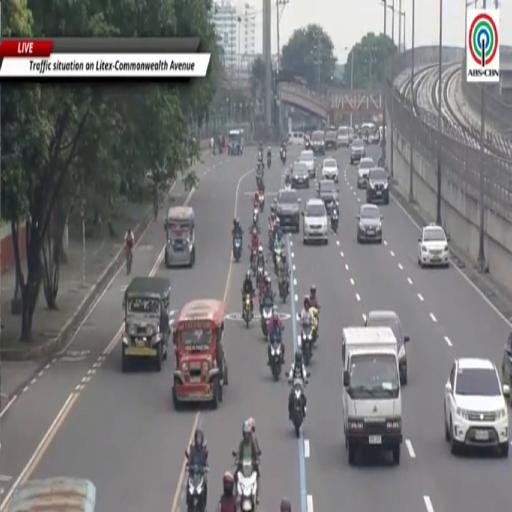car: (444, 358, 510, 457), (365, 311, 409, 385), (418, 223, 449, 267), (303, 199, 328, 245), (357, 204, 383, 243), (277, 189, 300, 232), (366, 168, 389, 204), (317, 180, 338, 214), (357, 157, 375, 188), (502, 332, 511, 386), (299, 150, 315, 179), (350, 138, 366, 165), (292, 163, 309, 188), (322, 158, 338, 183), (312, 131, 325, 155), (337, 126, 350, 148), (361, 123, 375, 143), (325, 131, 337, 150), (304, 134, 312, 149), (349, 126, 354, 145)
jeepney: (173, 299, 227, 409), (122, 278, 171, 372), (9, 477, 96, 511), (165, 206, 195, 267), (229, 130, 243, 155)
motorcycle: (186, 463, 208, 511), (237, 459, 257, 511), (291, 379, 305, 437), (270, 338, 282, 380), (261, 299, 273, 339), (301, 327, 312, 365), (273, 244, 284, 274), (243, 294, 252, 328), (310, 308, 318, 343), (233, 236, 242, 262), (279, 276, 288, 302), (126, 248, 133, 275), (331, 208, 338, 233), (252, 206, 259, 230), (251, 249, 257, 276), (256, 265, 264, 285), (256, 162, 264, 180), (256, 174, 264, 191), (269, 228, 275, 250), (259, 191, 264, 212), (281, 150, 286, 165), (267, 156, 271, 169)
truck: (342, 327, 402, 465)
